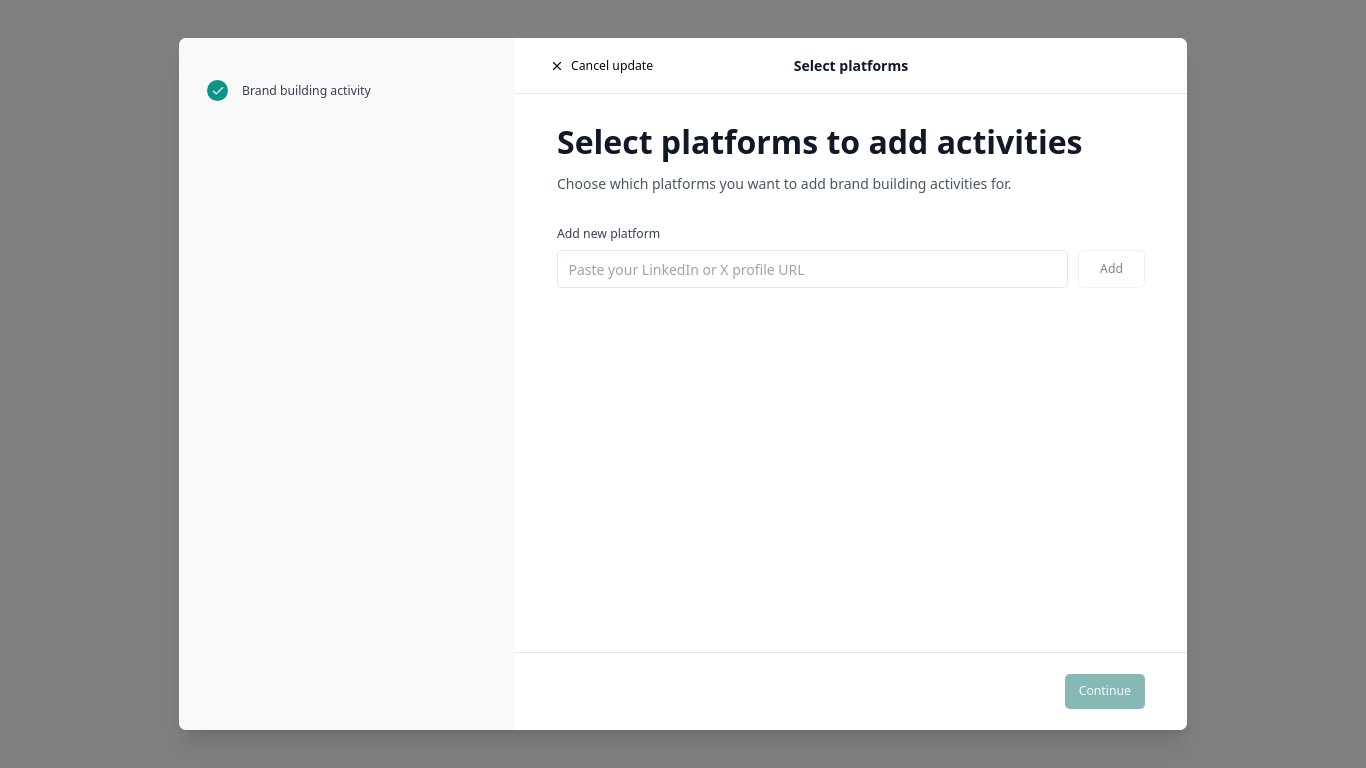
Scenario: BrandBuildingStep › Platform Selection Screen › should detect LinkedIn URL and enable Add button
Type "https://linkedin.com/in/johndoe" into the field with placeholder "Paste your LinkedIn or X profile URL" at (812, 269), box [557, 250, 1068, 288]
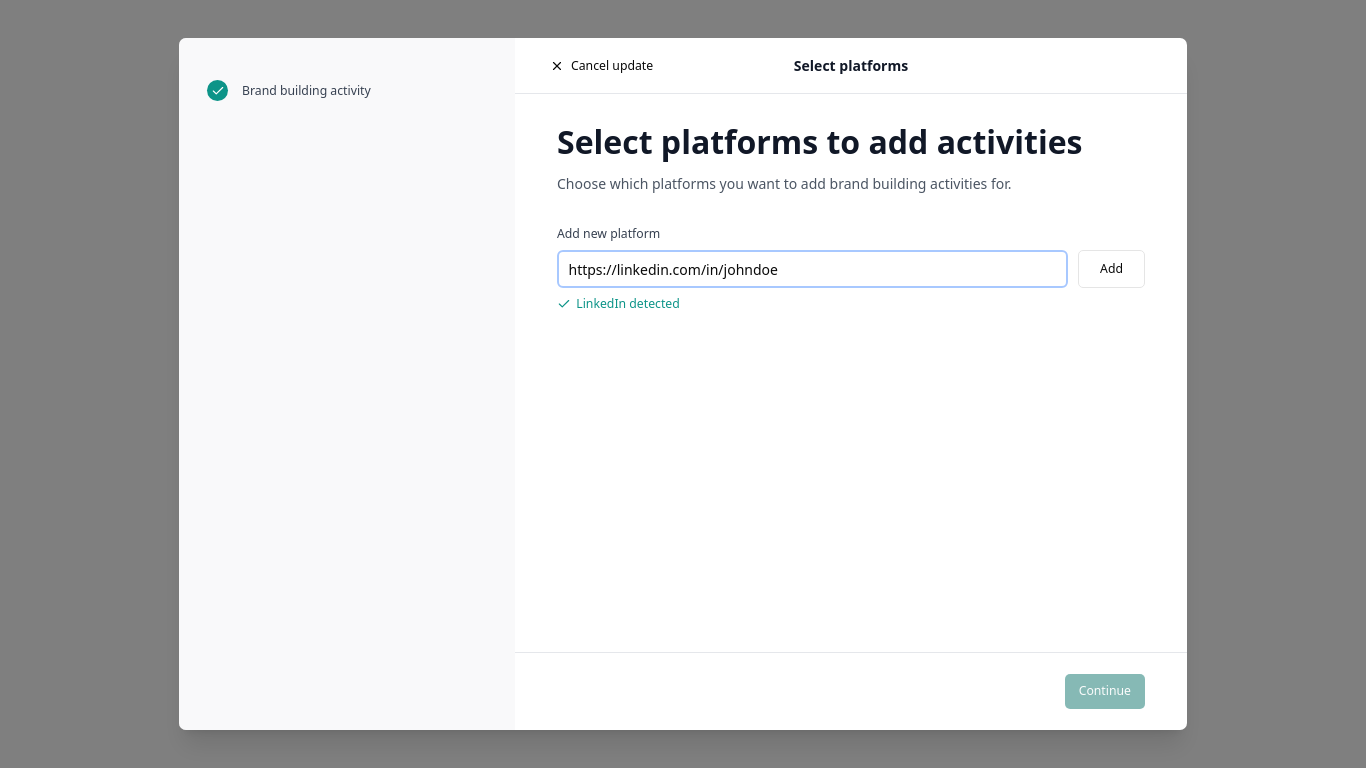
expect the text "LinkedIn detected" is shown: met, box [557, 295, 680, 312]
expect the button "Add" is enabled: met, box [1078, 250, 1145, 288]
